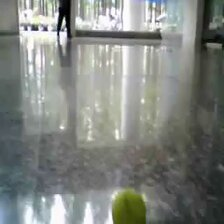tennis: (112, 191, 147, 224)
